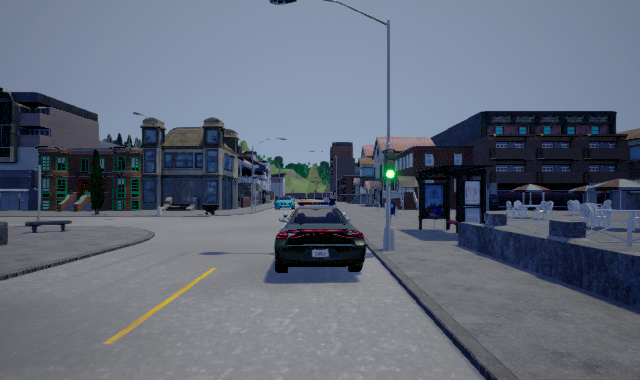traffic_light: (384, 147, 396, 182)
vehicle: (272, 199, 366, 272), (273, 196, 296, 211)
